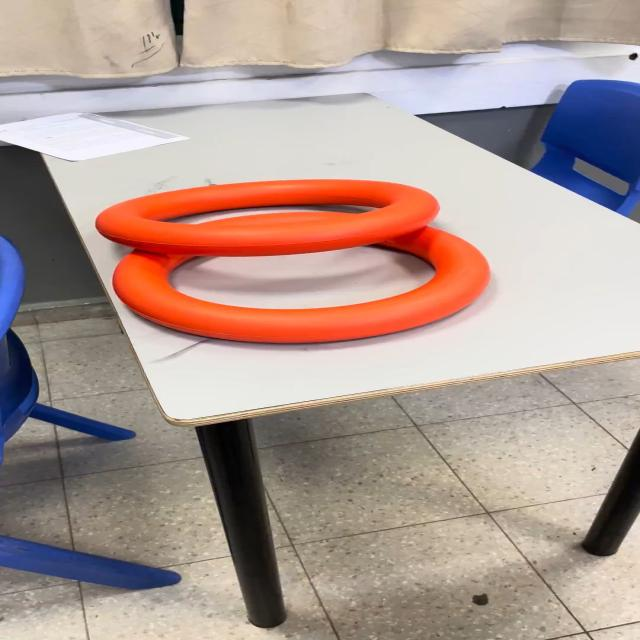note: (112, 211, 494, 344), (93, 177, 445, 258)
